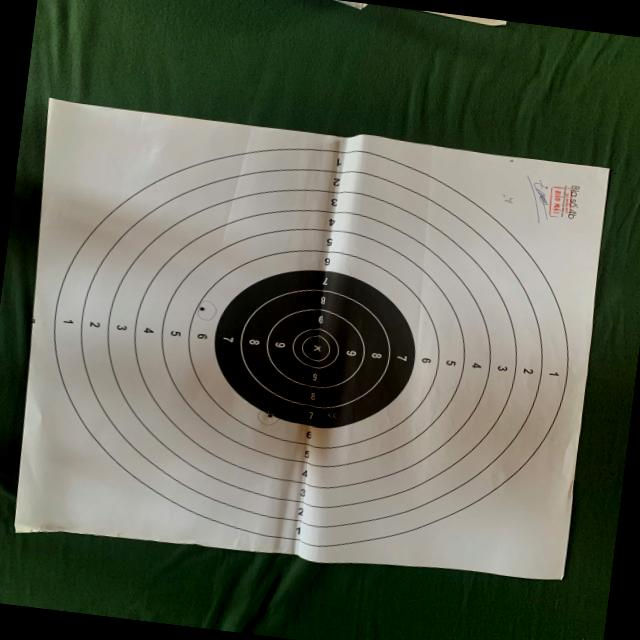bullet: (327, 411, 336, 417), (199, 305, 205, 311), (267, 413, 272, 417)
target: (14, 98, 608, 579)
